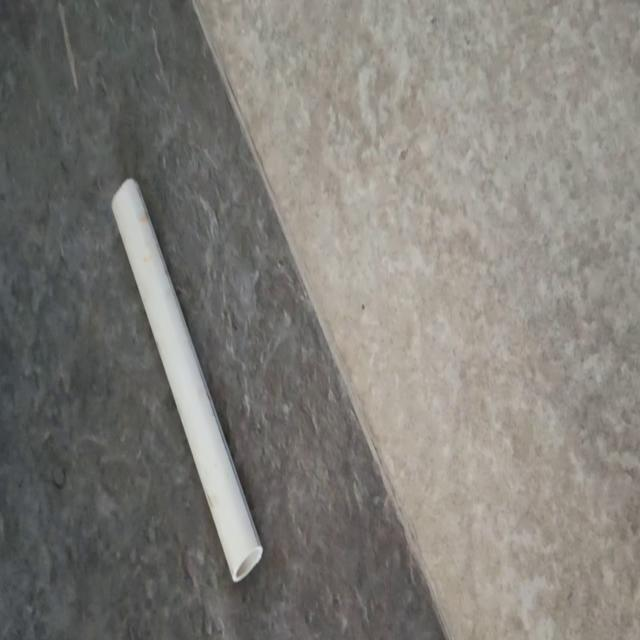Cube: (110, 175, 264, 583)
